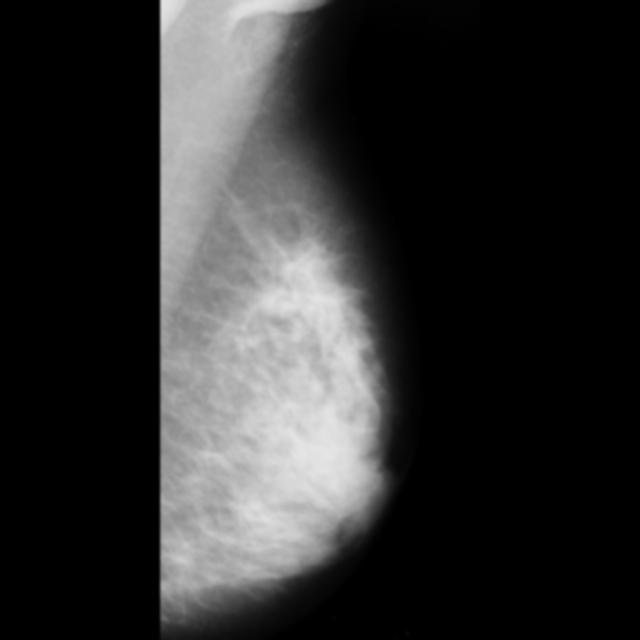ASYM: (288, 268, 349, 329)
